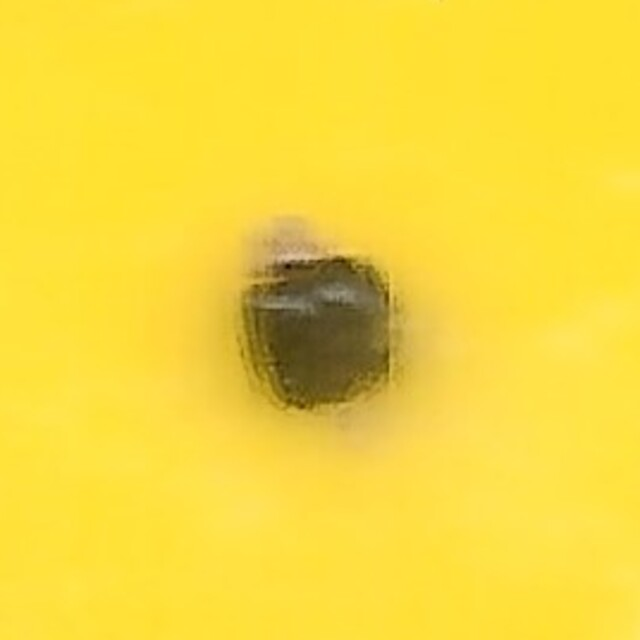Coleoptera: (239, 222, 401, 418)
